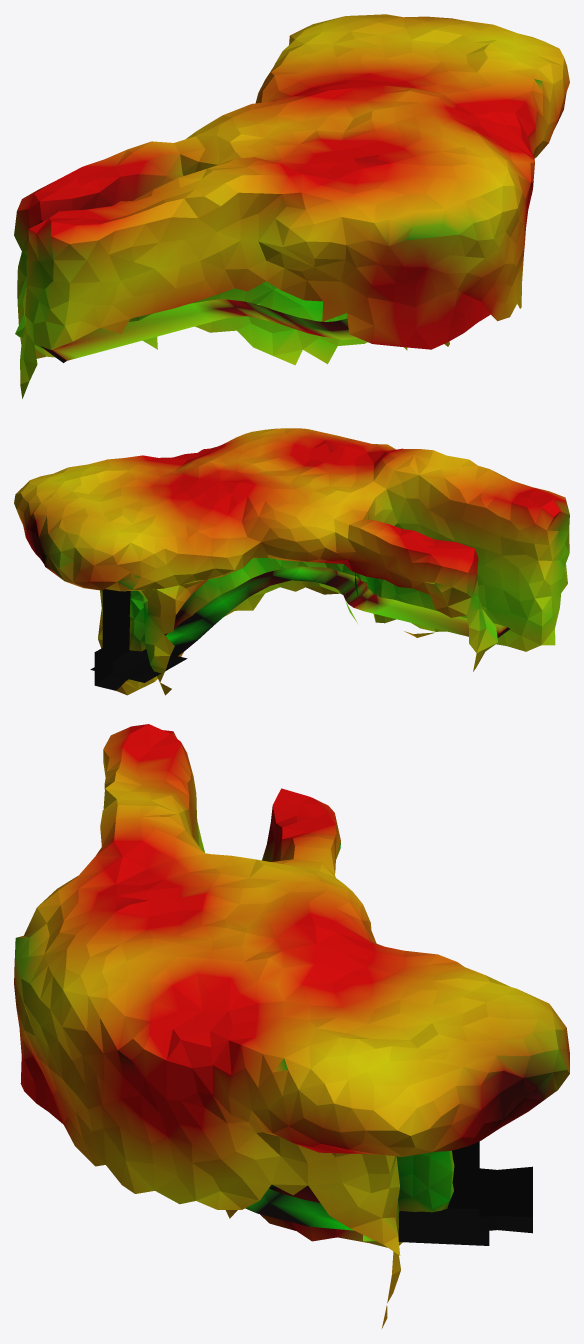
File: forest_institute_access_cave.glb
3 views of the same model, one above another, from view 1: azimuth 30°, elevation 25°; view 2: azimuth 150°, elevation 25°; view 3: azimuth 270°, elevation 25° (orthographic). The views are drawn at different scales.
Visible parts, largest first — view 1: Institute_Entrance_Rocks, Clearing_4_5_Floor.001; view 2: Institute_Entrance_Rocks, Clearing_4_5_Floor.001, Institute_Access; view 3: Institute_Entrance_Rocks, Institute_Access, Clearing_4_5_Floor.001.
Boxes of the visible parts, left/top/right/bottom form: Institute_Entrance_Rocks: left=14, top=14, right=569, bottom=398; Clearing_4_5_Floor.001: left=40, top=299, right=358, bottom=362; Institute_Entrance_Rocks: left=14, top=428, right=569, bottom=695; Clearing_4_5_Floor.001: left=90, top=566, right=509, bottom=682; Institute_Access: left=94, top=589, right=131, bottom=690; Institute_Entrance_Rocks: left=14, top=724, right=569, bottom=1328; Institute_Access: left=447, top=1141, right=532, bottom=1233; Clearing_4_5_Floor.001: left=245, top=1188, right=489, bottom=1245.
Bounding box in the file's own units: 46.01 × 21.9 × 31.29.
